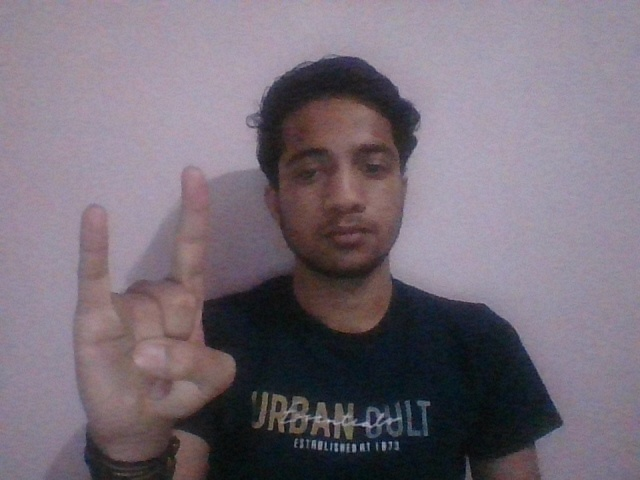iloveyou: (66, 168, 236, 433)
